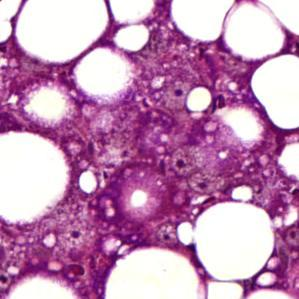steatosis: (0, 121, 69, 225), (17, 0, 111, 62), (197, 202, 274, 276), (74, 52, 134, 95), (182, 83, 215, 116), (75, 164, 100, 196)
